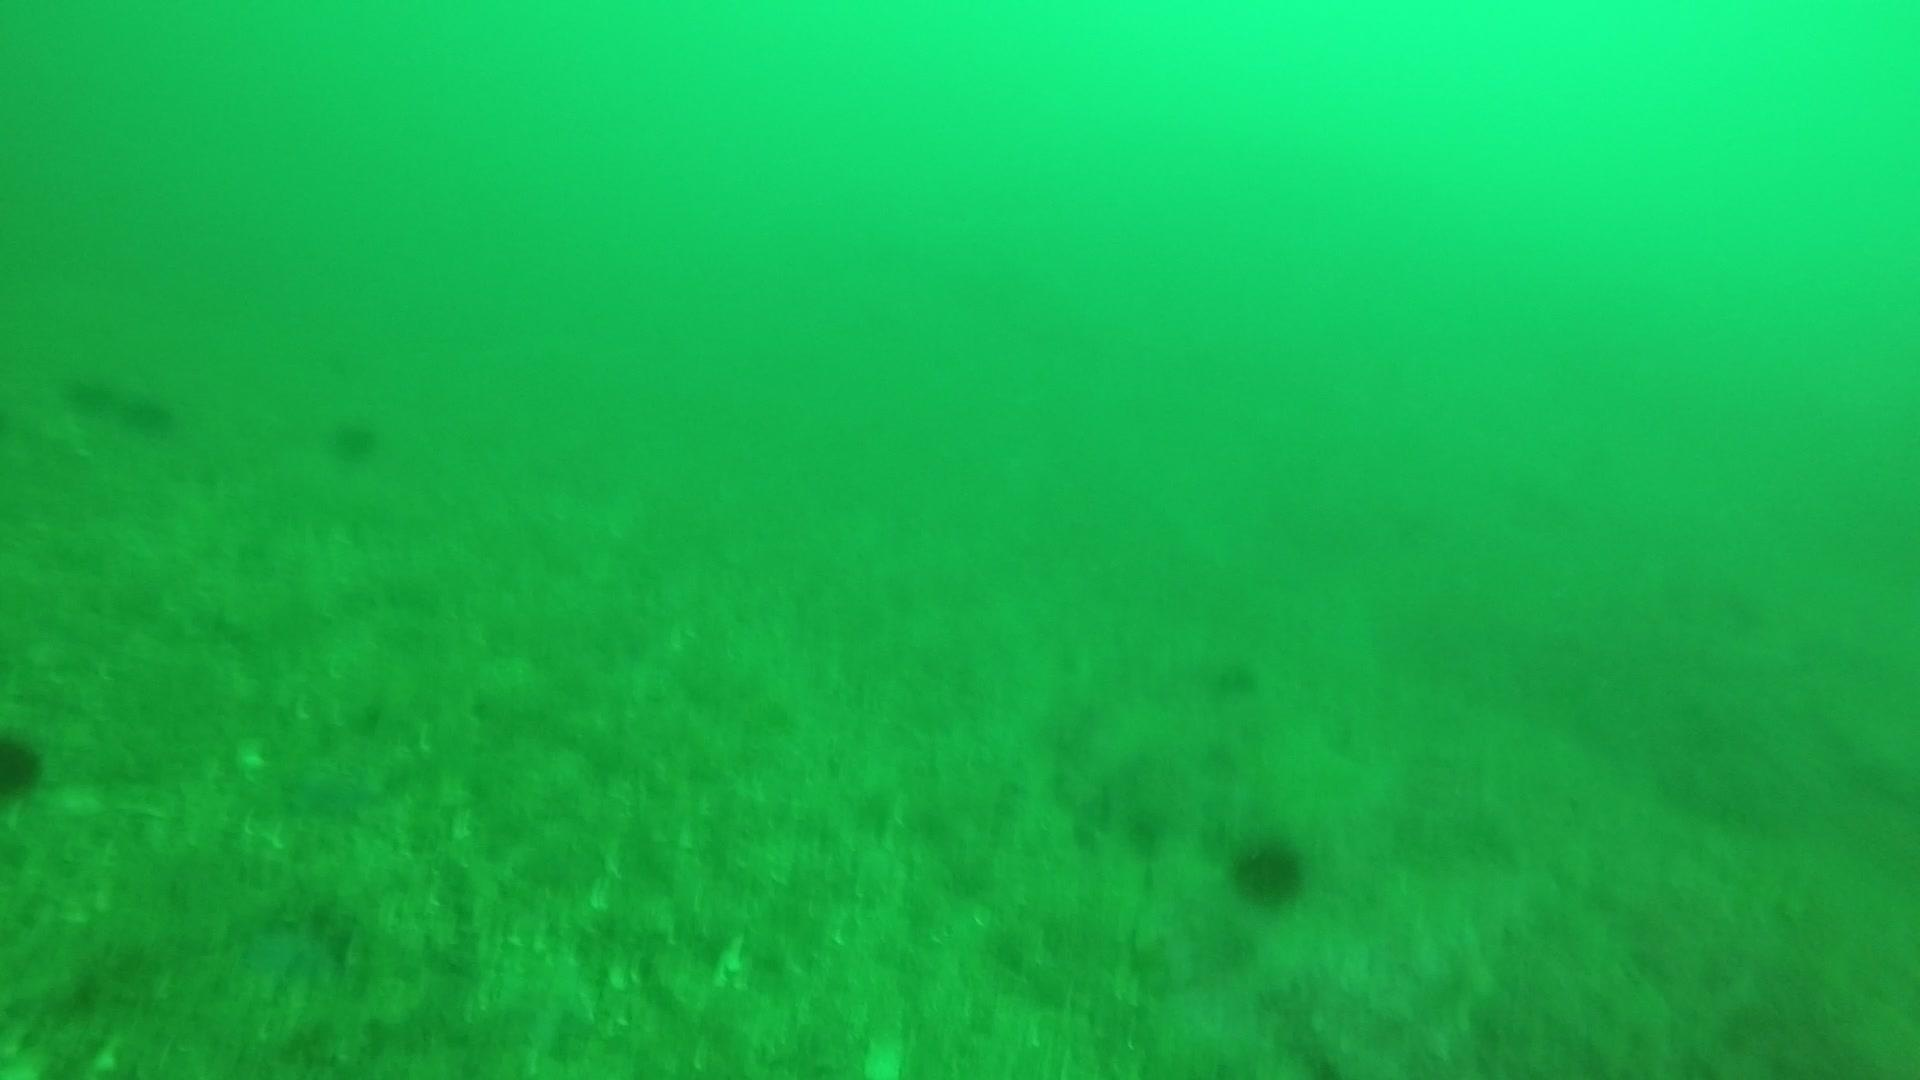echinus: (1225, 827, 1311, 909), (58, 364, 127, 425), (1, 724, 50, 808), (113, 382, 179, 439), (323, 409, 385, 465), (1203, 650, 1265, 703), (1118, 802, 1172, 858)
starfish: (233, 907, 353, 1000), (276, 742, 382, 824)
